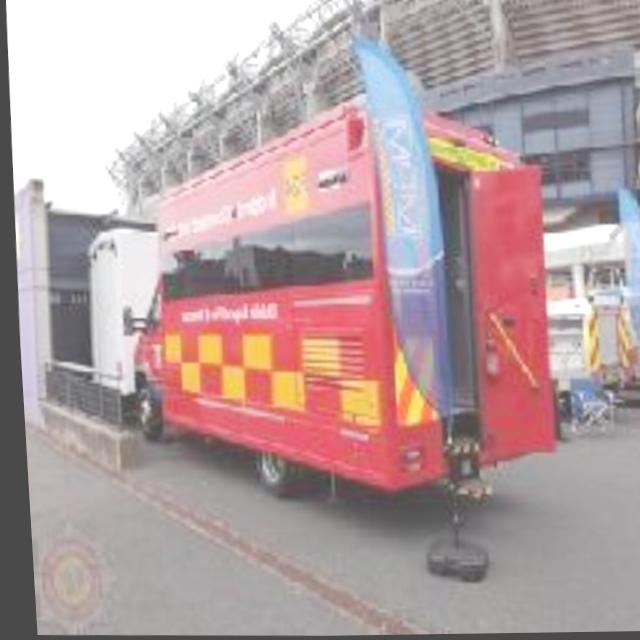emergency: (94, 95, 588, 543)
